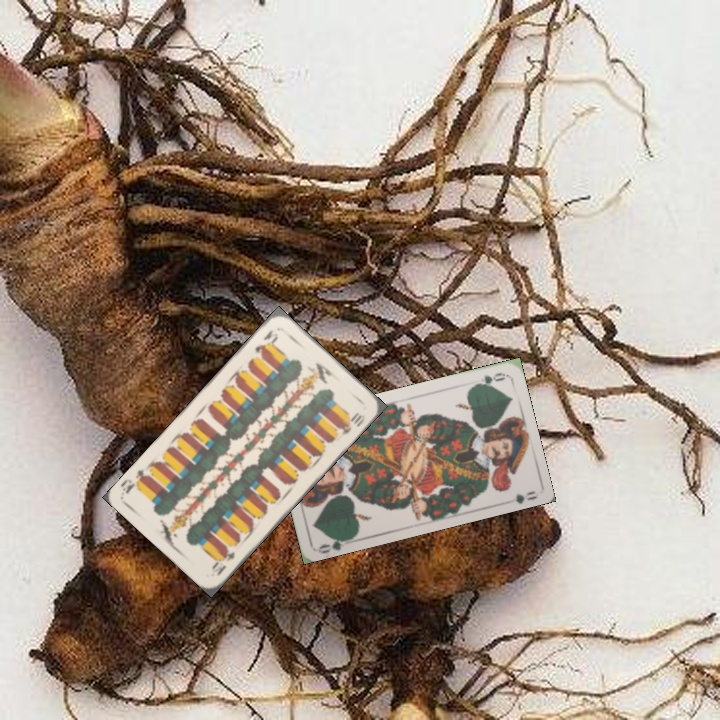E10: (250, 325, 281, 357), (208, 545, 237, 579)
GO: (315, 533, 354, 555), (469, 368, 508, 390)
